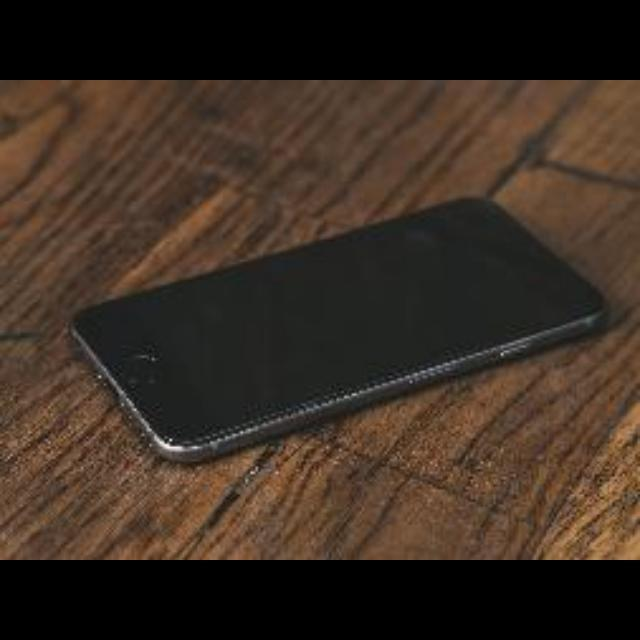phone: (55, 181, 613, 469)
